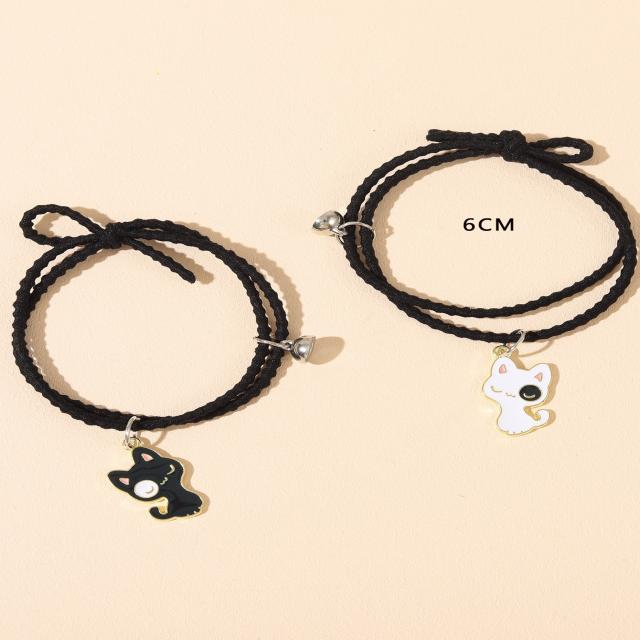bracelet: (0, 140, 345, 565), (296, 42, 640, 467)
